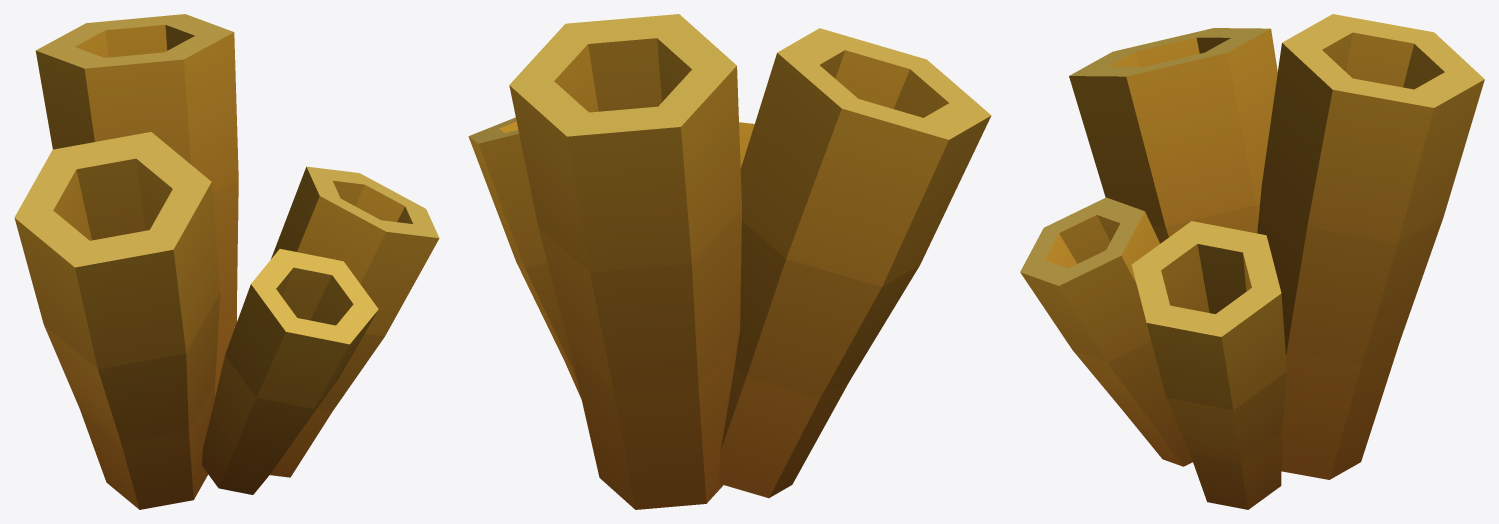
File: coral_yellow_1.fbx
3 renders of one model, left to right at view 1: azimuth 30°, elevation 25°; view 2: azimuth 150°, elevation 25°; view 3: azimuth 270°, elevation 25°, orthographic. The views are drawn at different scales.
Visible parts, largest first — view 1: coral_yellow_1; view 2: coral_yellow_1; view 3: coral_yellow_1.
Boxes of the visible parts, bbox=[...] form: coral_yellow_1: bbox=[14, 14, 439, 509]; coral_yellow_1: bbox=[468, 14, 991, 509]; coral_yellow_1: bbox=[1020, 14, 1484, 509].
Size of the model in its own units: 0.4422 by 0.4202 by 0.4134.
